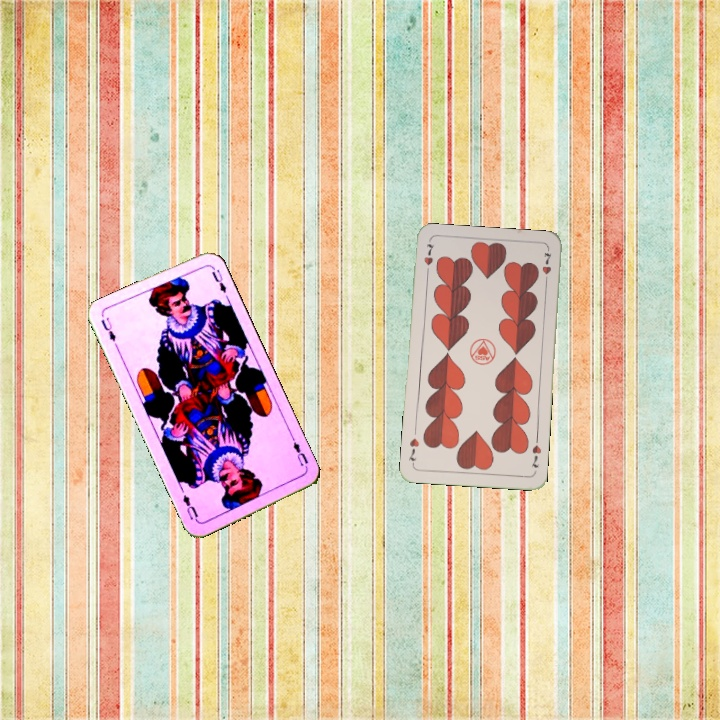EU: (287, 433, 311, 469), (97, 313, 118, 344)
H7: (420, 240, 437, 278), (527, 434, 544, 470)
